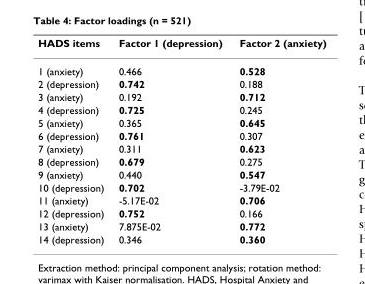table: (37, 36, 325, 244)
table column: (110, 36, 230, 244), (230, 36, 325, 244), (37, 36, 110, 244)
table column header: (37, 36, 325, 56)
table row: (37, 56, 325, 77), (37, 36, 325, 56), (37, 89, 325, 102), (37, 102, 325, 115), (37, 115, 325, 128), (37, 128, 325, 141), (37, 141, 325, 154), (37, 154, 325, 167), (37, 167, 325, 180), (37, 180, 325, 193), (37, 193, 325, 206), (37, 206, 325, 219), (37, 219, 325, 232), (37, 77, 325, 89), (37, 232, 325, 244)
